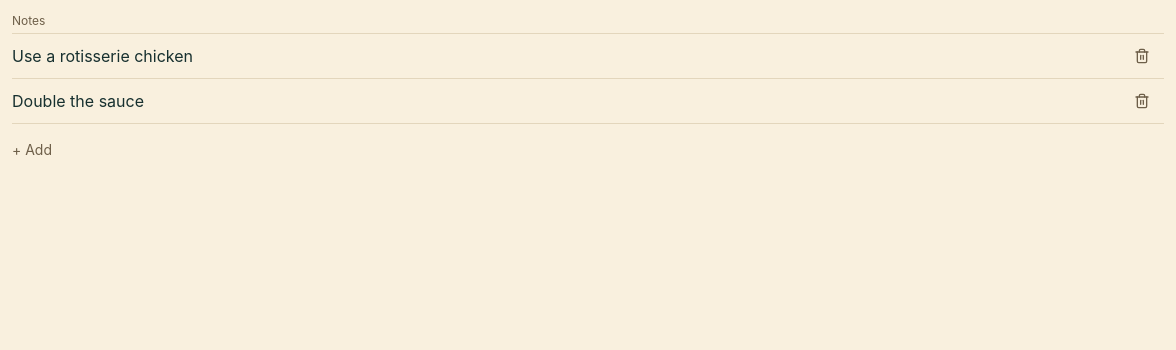
Test case: NoteList › keeps the draft and shows an alert when the edit fails
Press the mouse on the button "Double the sauce" at (78, 101), box [12,79,1112,123]
Wait 500 ms
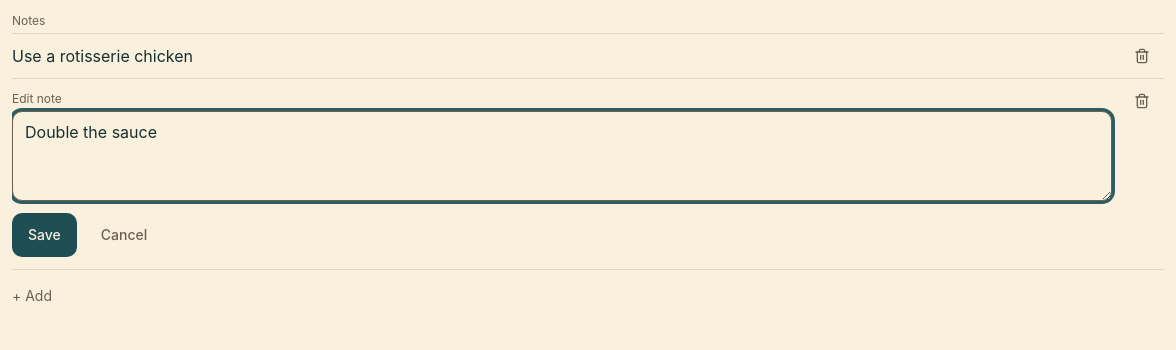
Type " twice" into the text box labelled "Edit note" at (562, 156), box [12,111,1112,201]
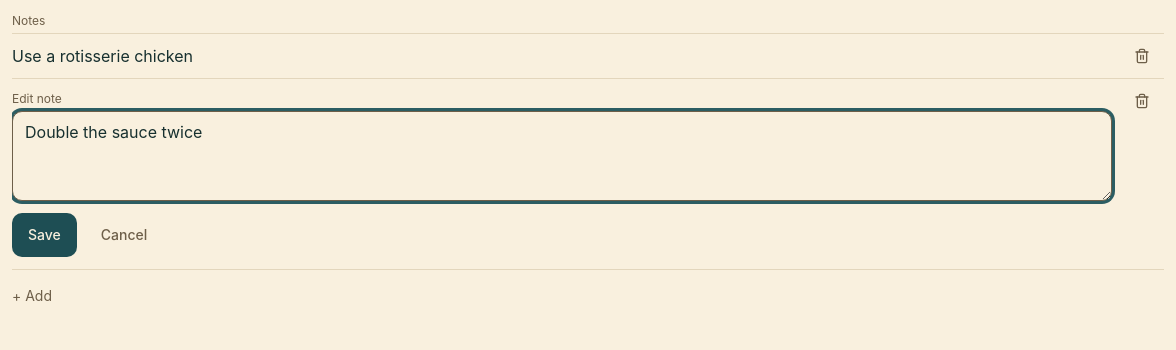
Click the button "Save" at (44, 235), box [12,213,77,257]
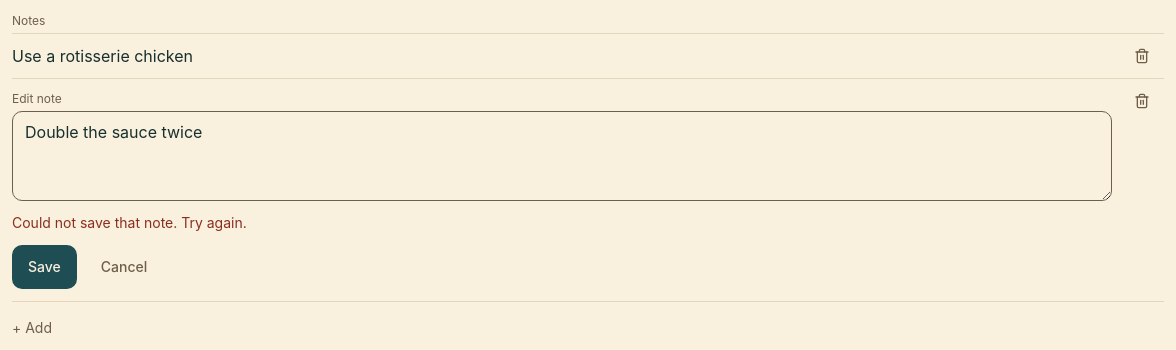
Expected: the text box labelled "Edit note" holds "Double the sauce twice", [12,111,1112,201]
Expected: the message reads "Could not save that note. Try again.", [12,214,247,231]
